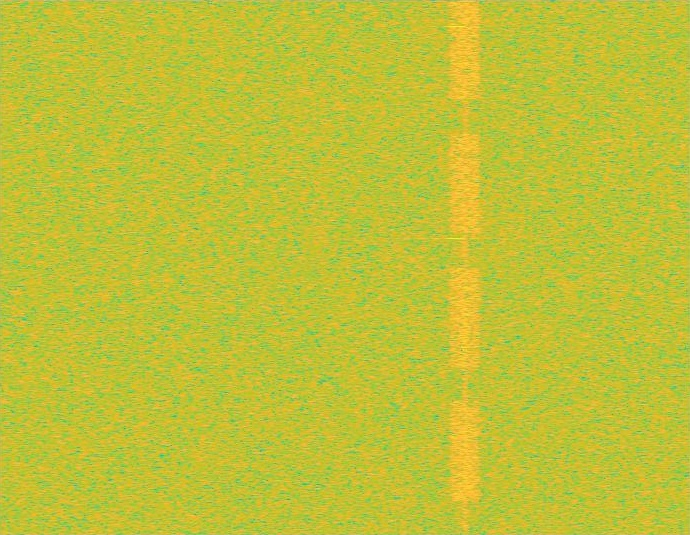5G: (448, 0, 483, 534)
DSSS: (463, 0, 468, 534)
Radar: (449, 0, 463, 534)
